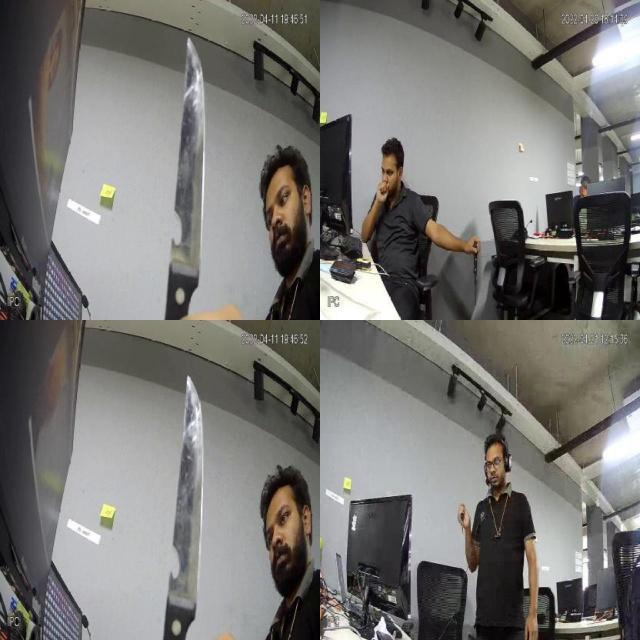-: (166, 372, 212, 616), (166, 32, 207, 289), (465, 259, 485, 308), (458, 508, 466, 538)
